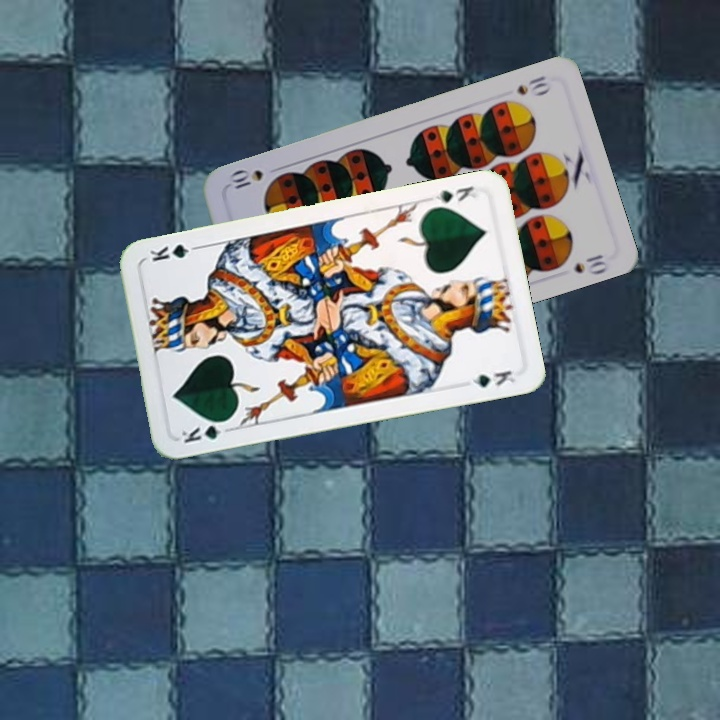GK: (177, 416, 235, 446), (431, 182, 484, 206)
S10: (513, 71, 554, 99)
